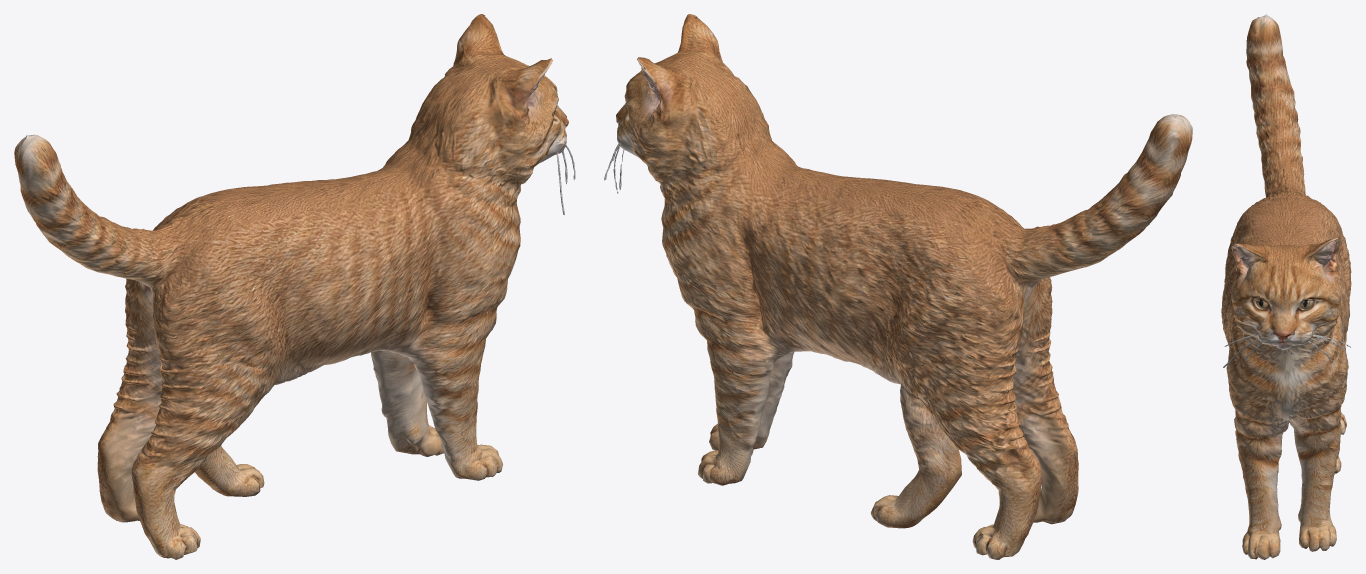
Rendered from ORANGEY.glb.
3 views of the same model, side by side, from view 1: azimuth 30°, elevation 25°; view 2: azimuth 150°, elevation 25°; view 3: azimuth 270°, elevation 25° (orthographic). The views are drawn at different scales.
Parts seen in each view (by area): view 1: tripo_node_bda38467-984e-4620-8123-0249f937c209; view 2: tripo_node_bda38467-984e-4620-8123-0249f937c209; view 3: tripo_node_bda38467-984e-4620-8123-0249f937c209.
Part boxes in pixels (left/top/right/bottom): tripo_node_bda38467-984e-4620-8123-0249f937c209: left=14, top=14, right=575, bottom=559; tripo_node_bda38467-984e-4620-8123-0249f937c209: left=604, top=14, right=1192, bottom=559; tripo_node_bda38467-984e-4620-8123-0249f937c209: left=1221, top=14, right=1351, bottom=559.
Bounding box in the file's own units: 1.32 × 0.9996 × 0.3252.
1 material, 1 textured.
